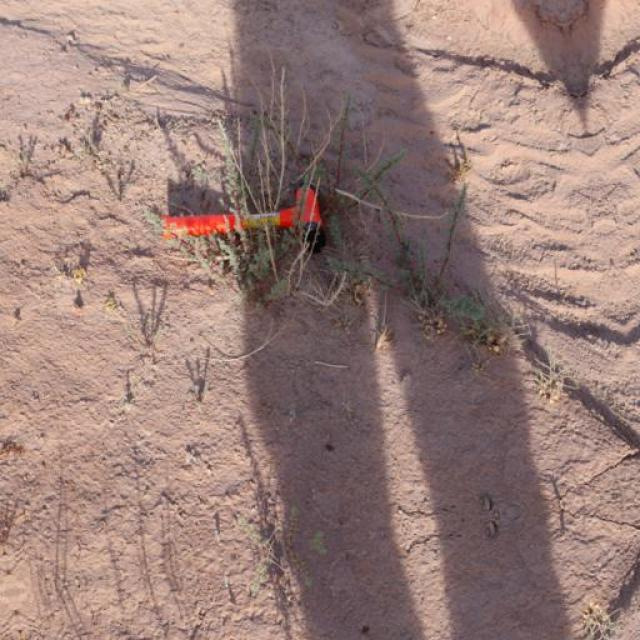mallet: (158, 180, 326, 252)
